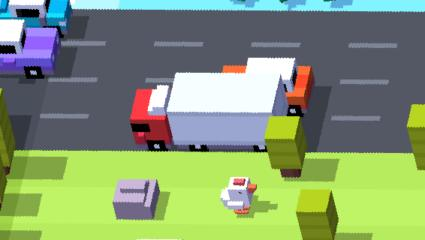hen: (219, 177, 256, 212)
obstacle: (168, 74, 276, 145), (223, 55, 314, 112), (0, 21, 57, 78), (265, 116, 306, 176), (0, 0, 70, 33), (298, 189, 340, 239), (132, 86, 168, 144), (114, 180, 161, 221), (407, 103, 425, 172), (0, 90, 13, 172), (139, 145, 266, 151)
